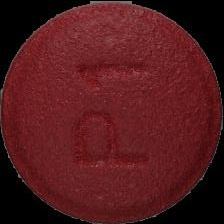50090-0111: (0, 0, 224, 224)
